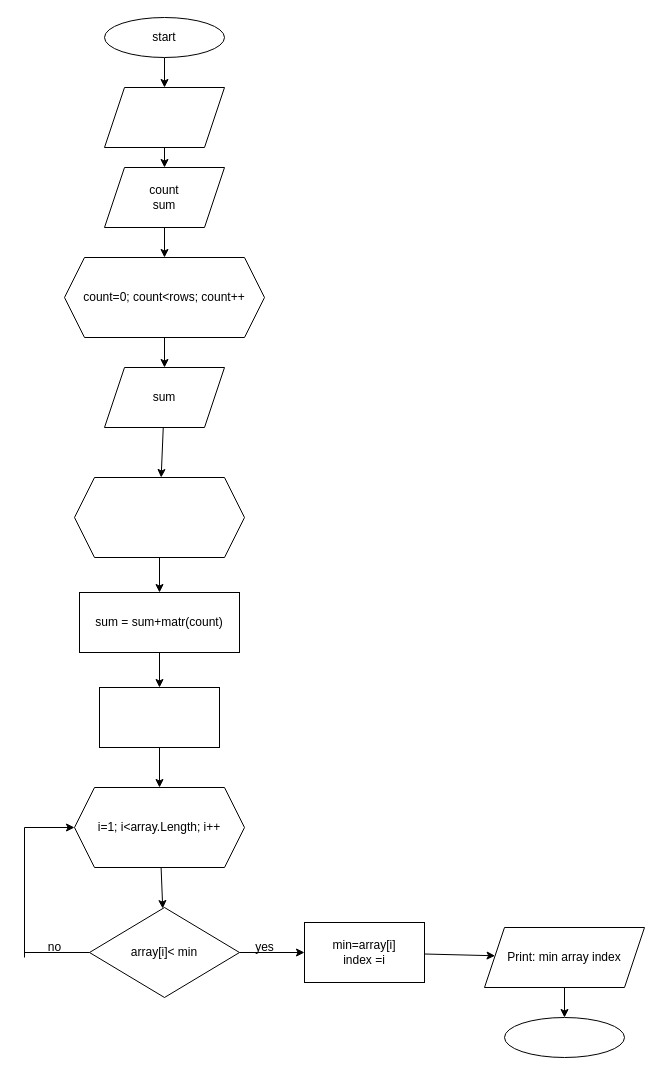
Some shapes in this 662 by 1075 pixel diagram are drawn without their labels. Each missing label, with the centre of its shape:
"array[count] = sum array" belongs at [159,717].
"end" belongs at [564,1037].
"j=0; j<matr.GetLength(1); i++" belongs at [159,517].
"rows=5 columns=3 matrix" belongs at [164,117].
